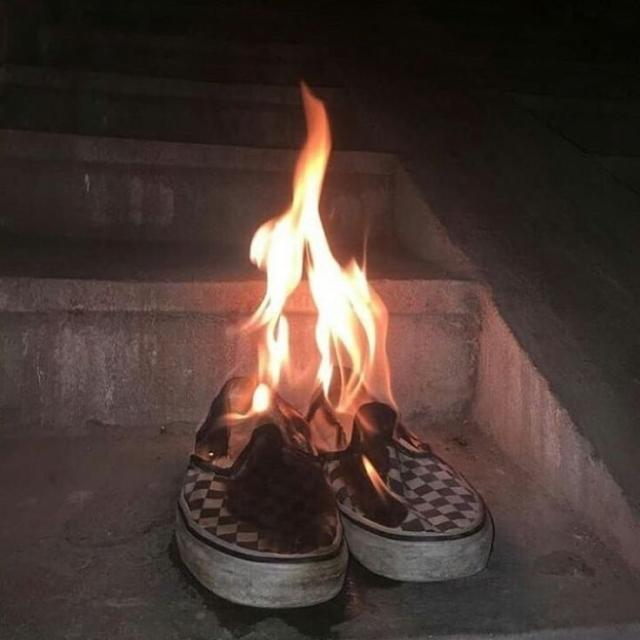fire: (247, 80, 393, 413)
